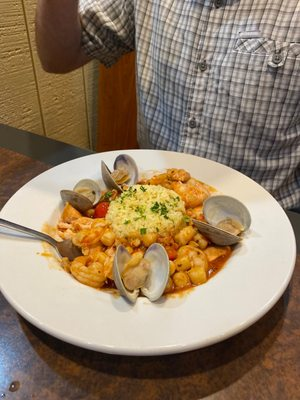burger: (0, 218, 84, 259)
salad: (191, 218, 249, 246)
